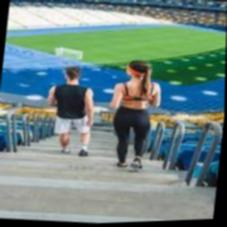Animal: (4, 132, 172, 210)
